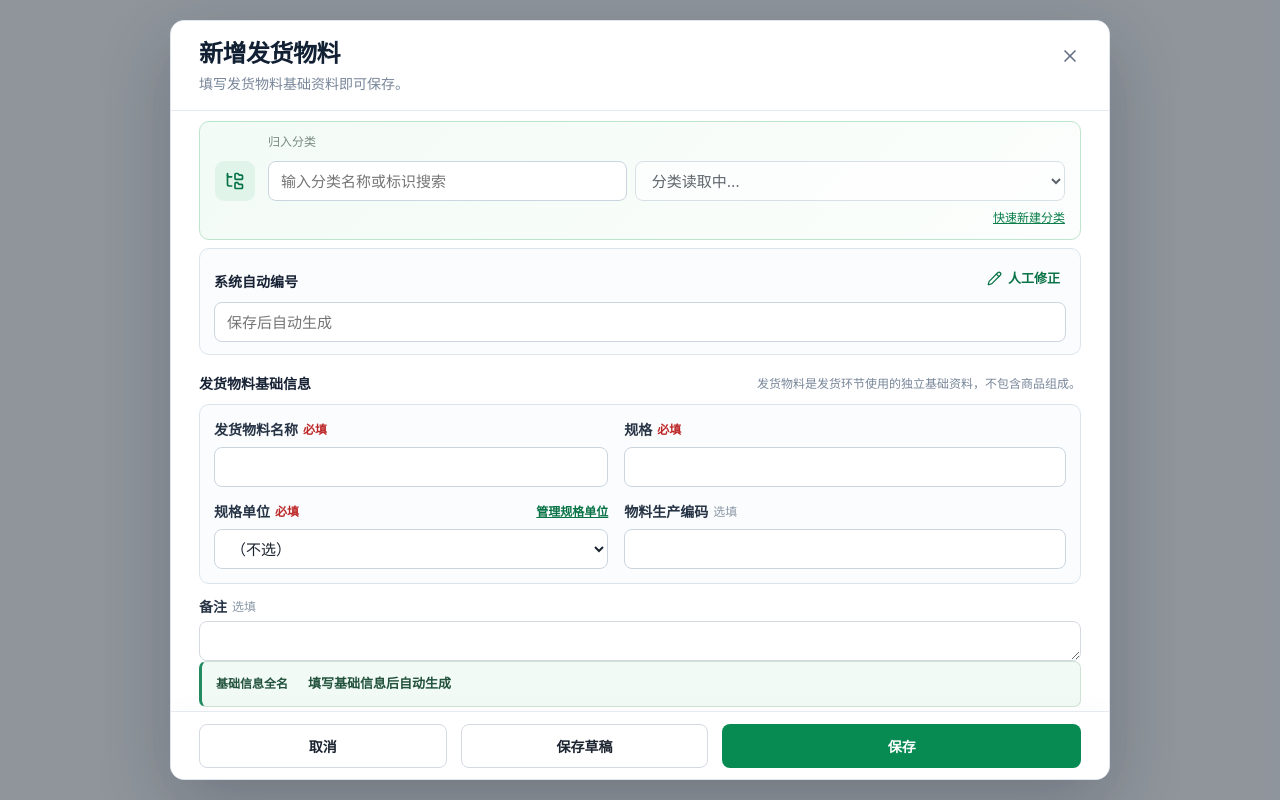
Test case: 商品档案表单：每种档案类型的分区顺序来自同一份布局 › 必填没填：点保存把每一项标出来，包括供货来源和重量，不发请求
Click the button "保存": {"x": 902, "y": 746} [722,724,1081,768]
(page scrolled)
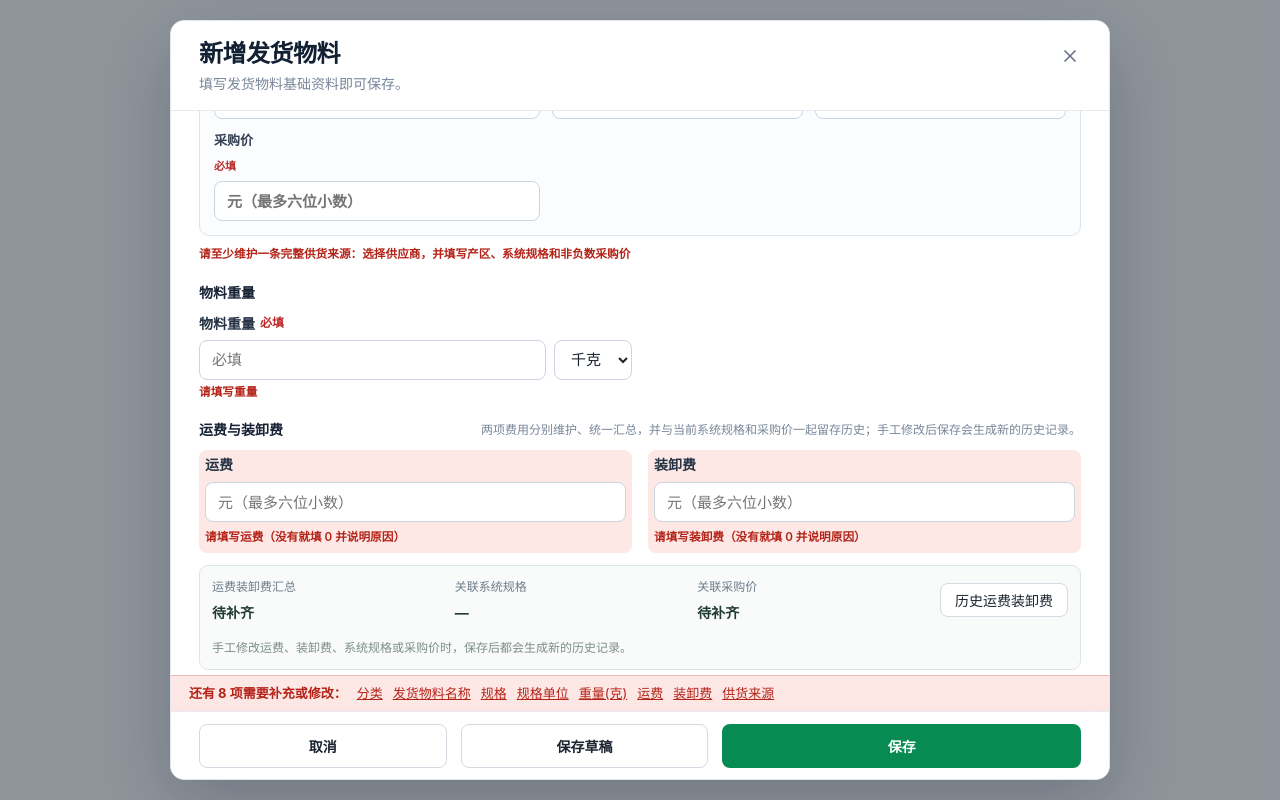
Result: the text "请至少维护一条完整供货来源：选择供应商，并填写产区、系统规格和非负数采购价" is shown at [199,247,630,261]
Result: the text "请填写重量" is shown at [199,385,257,399]
